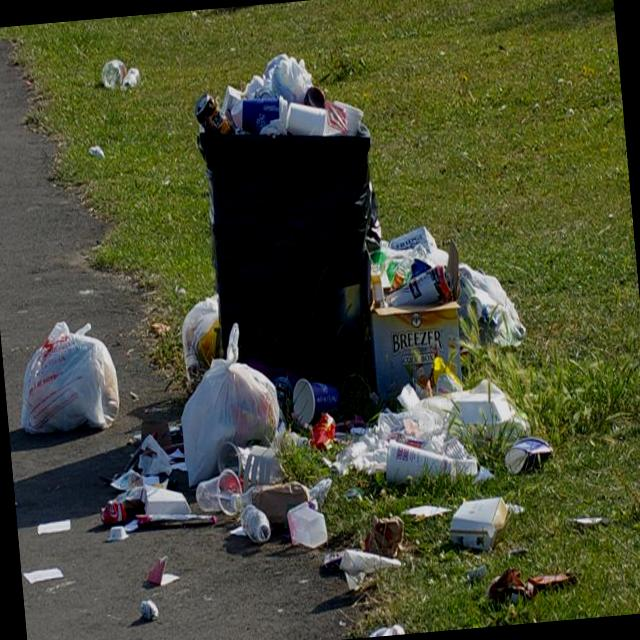garbage: (3, 38, 570, 640)
